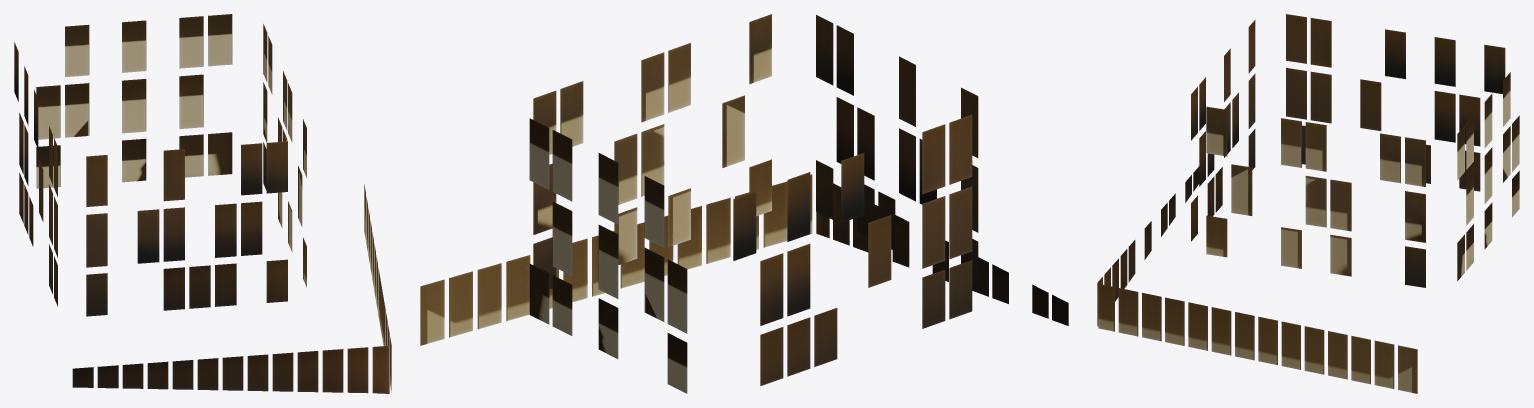
Rendered from Building_01_Glass.fbx.
3 views of the same model, side by side, from view 1: azimuth 30°, elevation 25°; view 2: azimuth 150°, elevation 25°; view 3: azimuth 270°, elevation 25° (orthographic). The views are drawn at different scales.
Visible parts, largest first — view 1: Building_01_Glass; view 2: Building_01_Glass; view 3: Building_01_Glass.
Boxes of the visible parts, x1,y1,x2,y2 form: Building_01_Glass: (14, 14, 391, 393); Building_01_Glass: (420, 14, 1068, 393); Building_01_Glass: (1097, 14, 1519, 393).
Size of the model in its own units: 21.65 by 11.53 by 20.99.
Materials: 1 (1 with a texture image).
